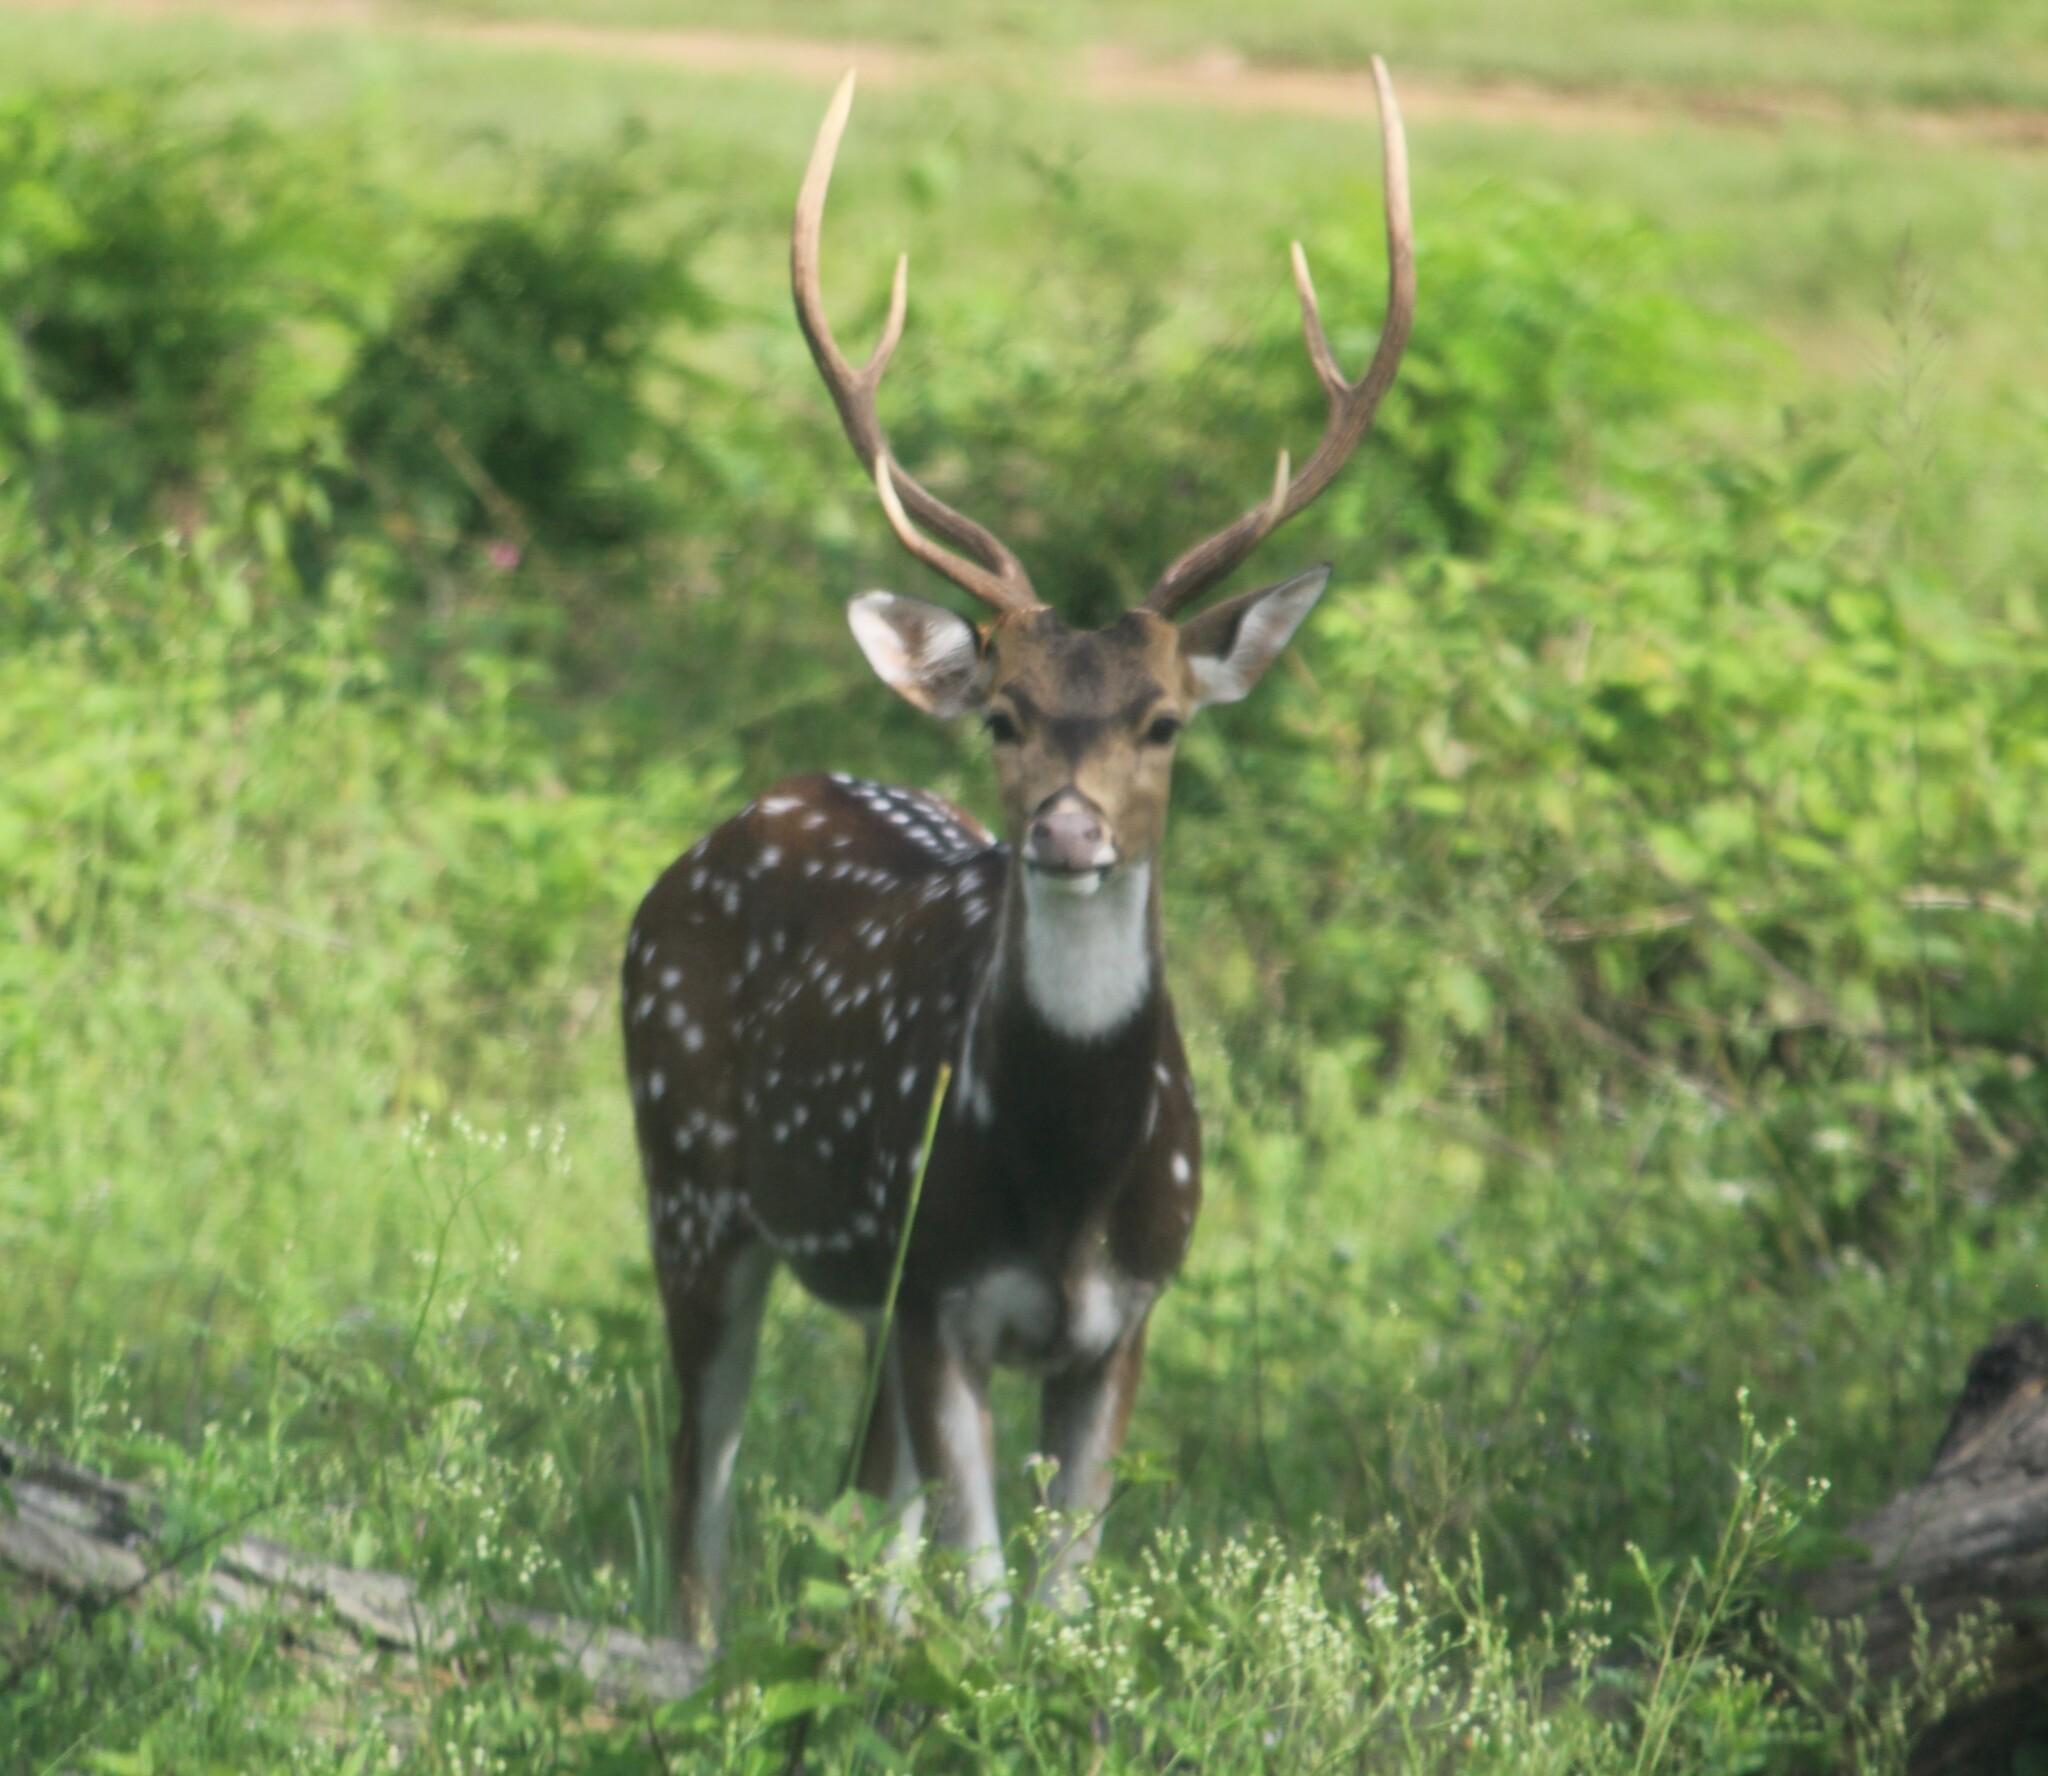Deer: (623, 61, 1414, 1640)
